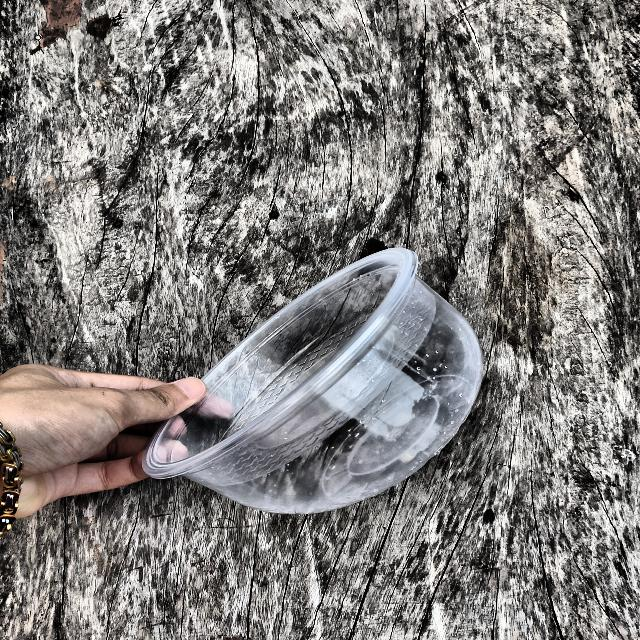plastic container: (128, 240, 518, 521)
